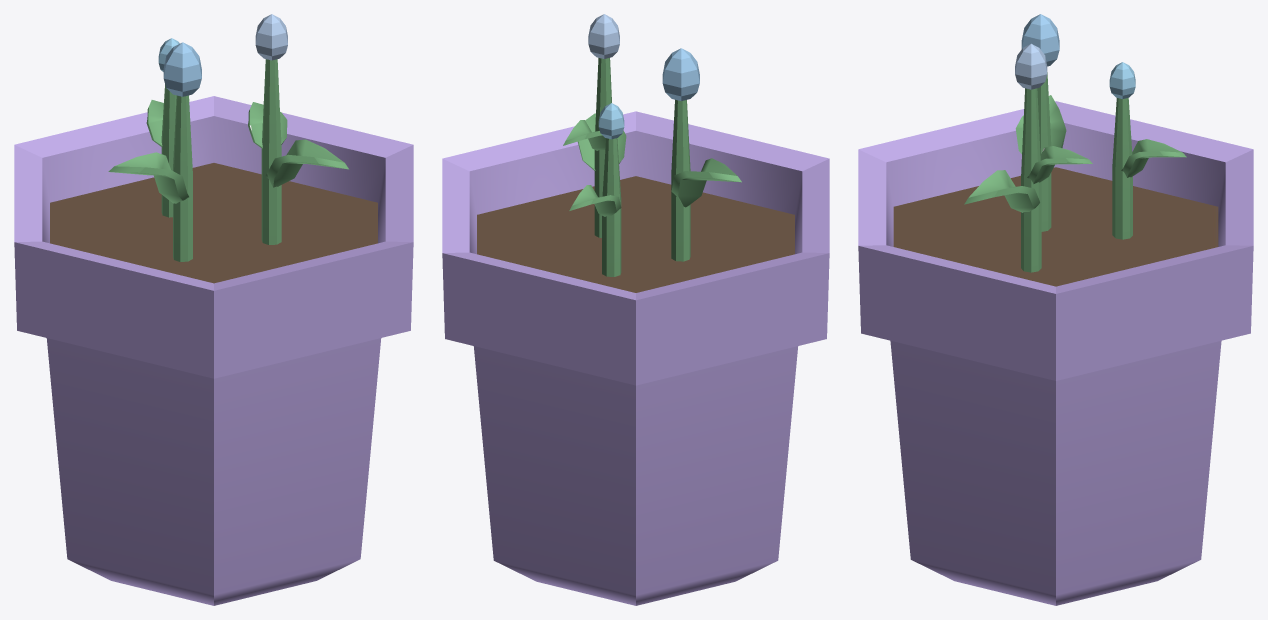
The model's file is plant06_03.gltf.
The picture shows the model from 3 angles, left to right: view 1: azimuth 30°, elevation 25°; view 2: azimuth 150°, elevation 25°; view 3: azimuth 270°, elevation 25°; orthographic projection. The views are drawn at different scales.
Visible parts, largest first — view 1: plant06_stage01:pot, plant06_stage01:dirt, plant06_stage02:pCylinder3, plant06_stage02:pCylinder1, plant06_stage02:pCube5, plant06_stage02:pCube3, pSphere1, pSphere3, plant06_stage02:pCylinder2, plant06_stage02:pCube6, plant06_stage02:pCube4; view 2: plant06_stage01:pot, plant06_stage01:dirt, plant06_stage02:pCylinder1, plant06_stage02:pCylinder2, pSphere1, plant06_stage02:pCube3, plant06_stage02:pCylinder3, pSphere3, plant06_stage02:pCube4, pSphere2, plant06_stage02:pCube5, plant06_stage02:pCube6; view 3: plant06_stage01:pot, plant06_stage01:dirt, plant06_stage02:pCylinder3, plant06_stage02:pCylinder2, plant06_stage02:pCube5, plant06_stage02:pCylinder1, pSphere1, pSphere3, plant06_stage02:pCube4, plant06_stage02:pCube6, plant06_stage02:pCube3, pSphere2.
Part boxes in pixels (bbox=[...]): plant06_stage01:pot: bbox=[14, 96, 413, 605]; plant06_stage01:dirt: bbox=[50, 163, 377, 283]; plant06_stage02:pCylinder3: bbox=[261, 59, 281, 244]; plant06_stage02:pCylinder1: bbox=[173, 95, 192, 261]; plant06_stage02:pCube5: bbox=[265, 139, 348, 187]; plant06_stage02:pCube3: bbox=[108, 152, 188, 203]; pSphere1: bbox=[163, 42, 201, 96]; pSphere3: bbox=[255, 14, 287, 60]; plant06_stage02:pCylinder2: bbox=[161, 84, 176, 217]; plant06_stage02:pCube6: bbox=[248, 102, 287, 148]; plant06_stage02:pCube4: bbox=[146, 100, 163, 146]; plant06_stage01:pot: bbox=[442, 111, 829, 605]; plant06_stage01:dirt: bbox=[477, 176, 794, 292]; plant06_stage02:pCylinder1: bbox=[671, 99, 690, 261]; plant06_stage02:pCylinder2: bbox=[602, 138, 621, 276]; pSphere1: bbox=[662, 48, 699, 101]; plant06_stage02:pCube3: bbox=[671, 158, 741, 207]; plant06_stage02:pCylinder3: bbox=[594, 58, 611, 237]; pSphere3: bbox=[588, 14, 619, 58]; plant06_stage02:pCube4: bbox=[569, 185, 621, 216]; pSphere2: bbox=[598, 103, 624, 139]; plant06_stage02:pCube5: bbox=[578, 113, 626, 170]; plant06_stage02:pCube6: bbox=[563, 120, 605, 150]; plant06_stage01:pot: bbox=[858, 101, 1253, 605]; plant06_stage01:dirt: bbox=[893, 167, 1218, 286]; plant06_stage02:pCylinder3: bbox=[1021, 88, 1041, 272]; plant06_stage02:pCylinder2: bbox=[1112, 98, 1132, 239]; plant06_stage02:pCube5: bbox=[964, 170, 1039, 212]; plant06_stage02:pCylinder1: bbox=[1037, 72, 1051, 231]; pSphere1: bbox=[1021, 14, 1059, 66]; pSphere3: bbox=[1015, 43, 1047, 89]; plant06_stage02:pCube4: bbox=[1121, 139, 1186, 177]; plant06_stage02:pCube6: bbox=[1027, 146, 1092, 183]; plant06_stage02:pCube3: bbox=[1015, 95, 1066, 153]; pSphere2: bbox=[1109, 62, 1135, 99].
Bounding box in the file's own units: 0.0193 × 0.0249 × 0.0167.
Materials: 1 (1 with a texture image).
